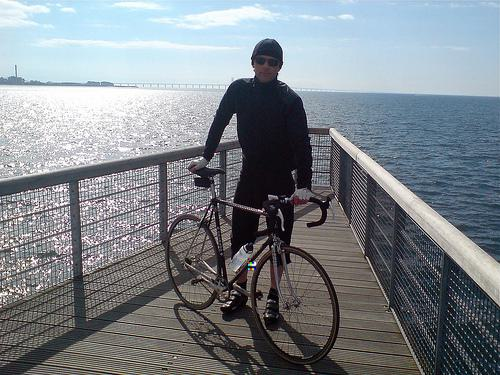car: (164, 166, 341, 366)
person: (191, 38, 316, 328)
